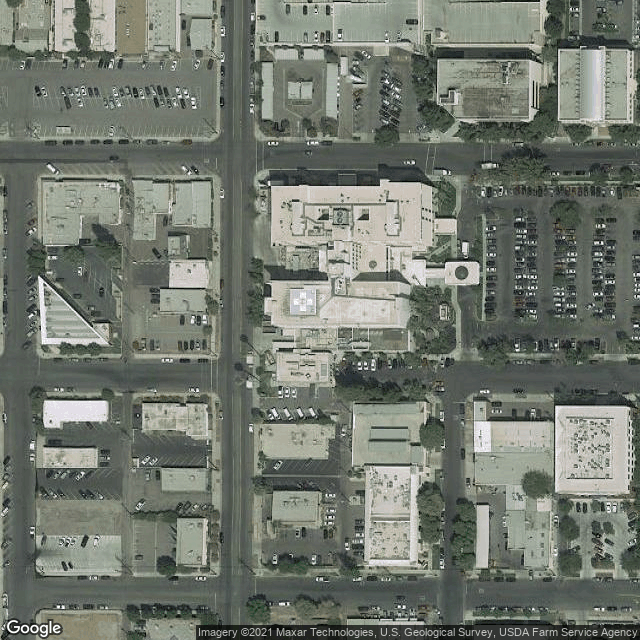Helipad: (287, 287, 319, 317)
